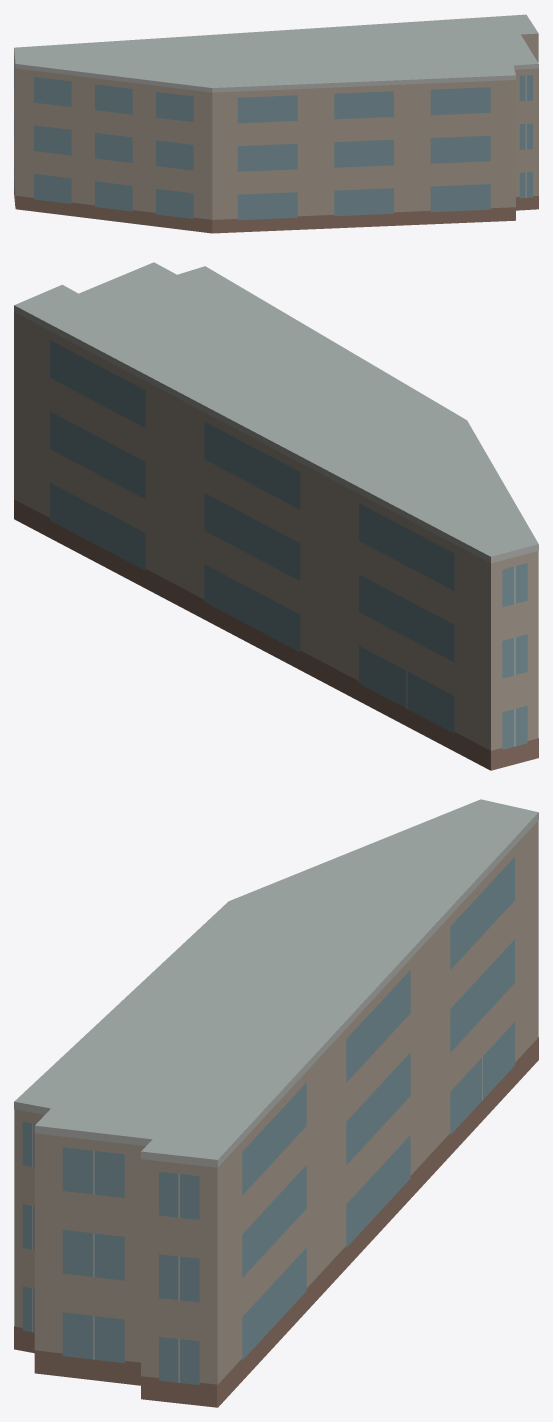
File: survey-upis-32883973.glb
3 renders of one model, top to bottom at view 1: azimuth 30°, elevation 25°; view 2: azimuth 150°, elevation 25°; view 3: azimuth 270°, elevation 25°, orthographic. The views are drawn at different scales.
Visible parts, largest first — view 1: survey-upis-32883973.tmp; view 2: survey-upis-32883973.tmp; view 3: survey-upis-32883973.tmp.
Part boxes in pixels (left/top/right/bottom): survey-upis-32883973.tmp: left=14, top=14, right=538, bottom=233; survey-upis-32883973.tmp: left=14, top=262, right=538, bottom=770; survey-upis-32883973.tmp: left=14, top=799, right=538, bottom=1407.
Size of the model in its own units: 24.68 by 7.9 by 15.18.
